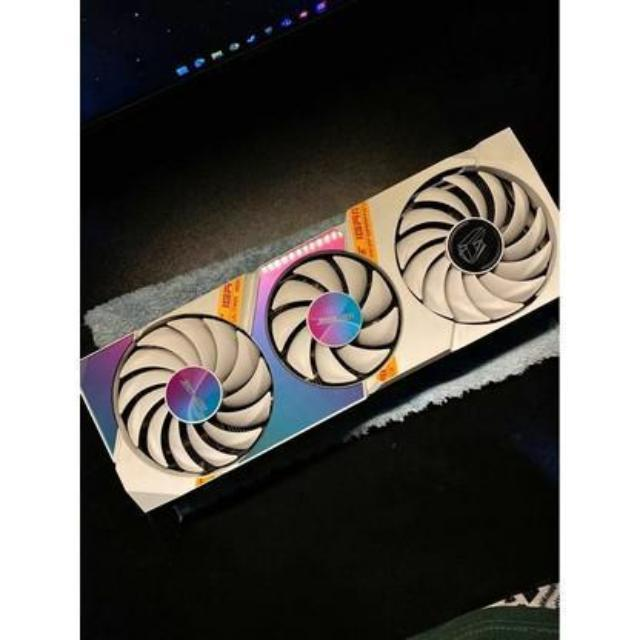GPU: (82, 110, 568, 530)
